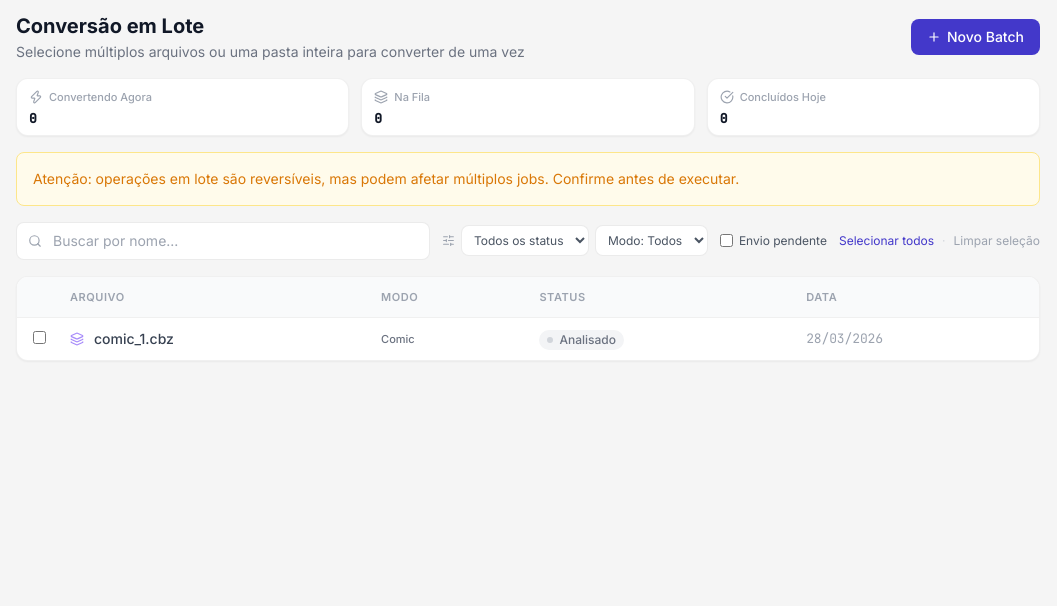
BatchPage › executes batchExport and shows result
Expected: the text "comic_1.cbz" is shown, [94,328,174,348]
Select the comic job and click the export button directly
Click the checkbox named "comic_1.cbz": (40, 337) [33,330,46,344]
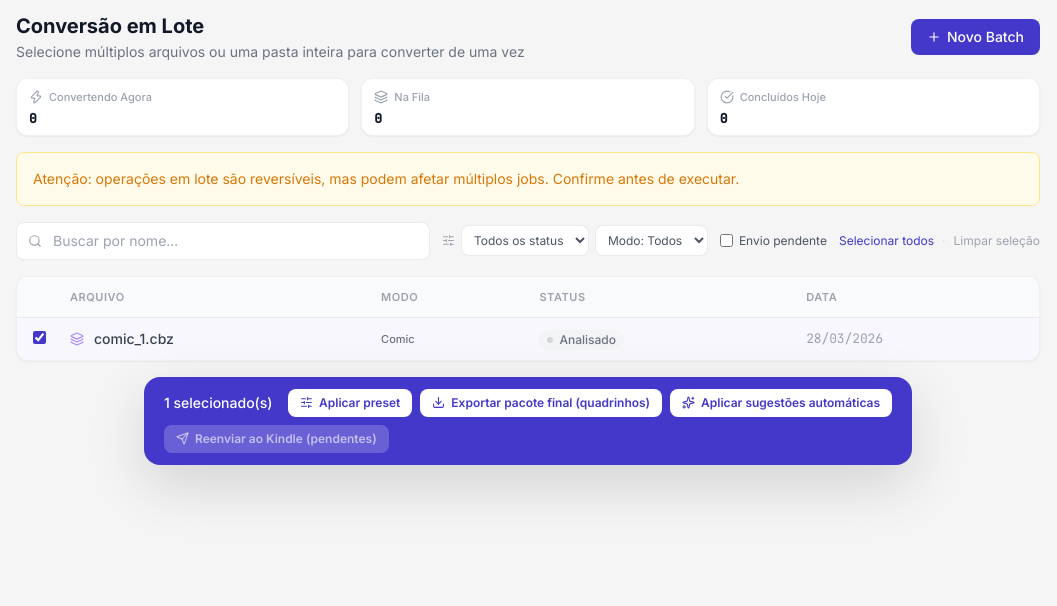
Click the button "Exportar pacote final (quadrinhos)": (541, 402) [420,388,662,416]
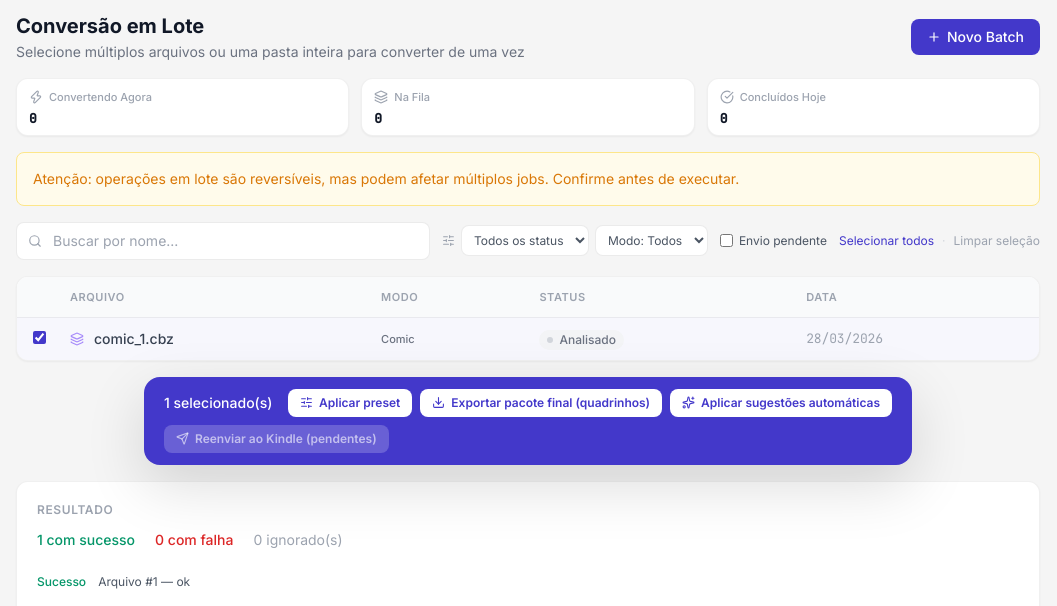
Now the text "Resultado" is shown, box [37,502,113,516]
